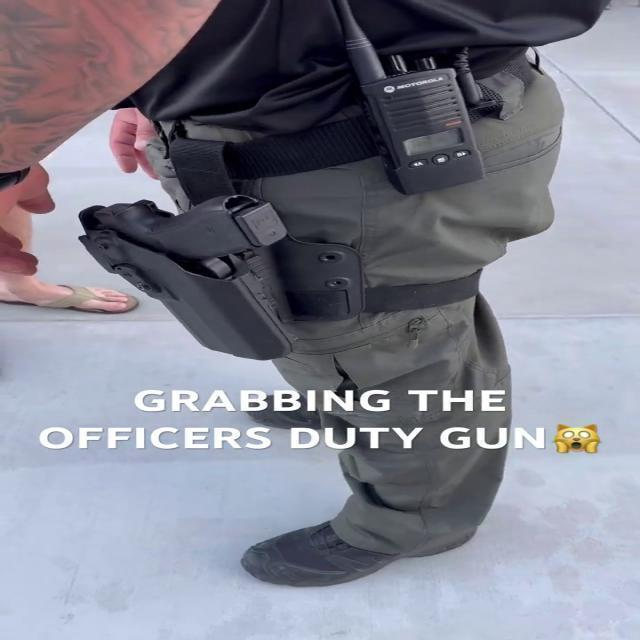Handgun: (74, 194, 323, 359)
